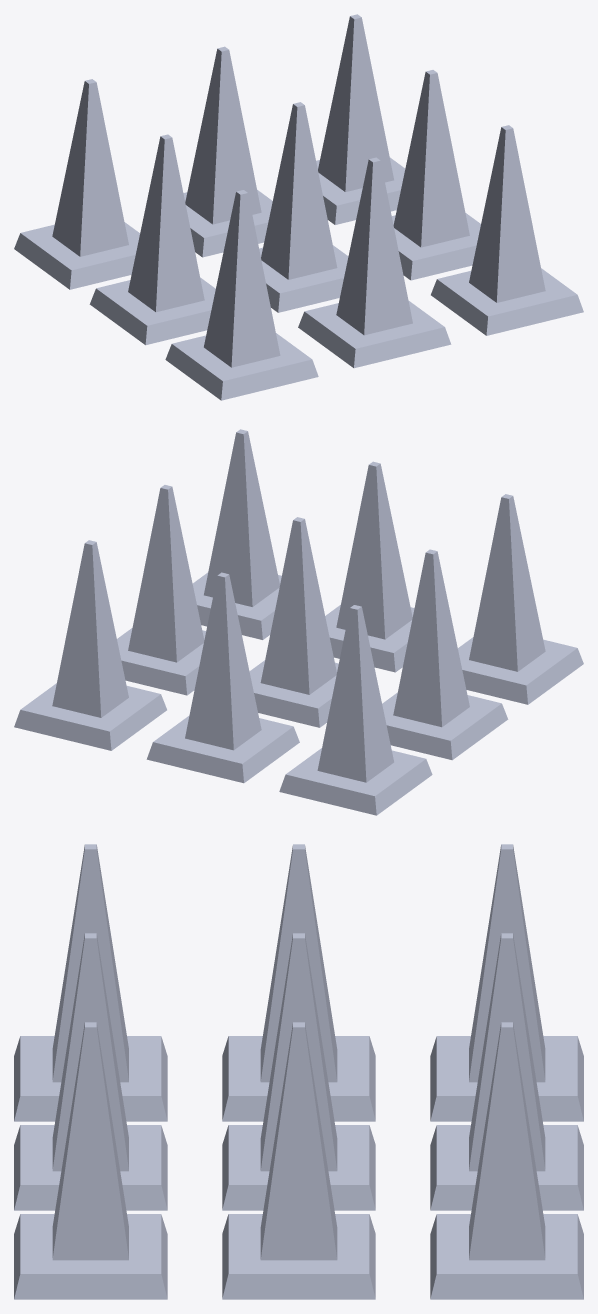
The model's file is spikesLarge.obj.
3 views of the same model, one above another, from view 1: azimuth 30°, elevation 25°; view 2: azimuth 150°, elevation 25°; view 3: azimuth 270°, elevation 25° (orthographic). The views are drawn at different scales.
Visible parts, largest first — view 1: spikesLarge; view 2: spikesLarge; view 3: spikesLarge.
Boxes of the visible parts, x1,y1,x2,y2 form: spikesLarge: (14,14,583,400); spikesLarge: (14,429,583,815); spikesLarge: (14,844,583,1299).
Size of the model in its own units: 0.5811 by 0.2695 by 0.5751.
